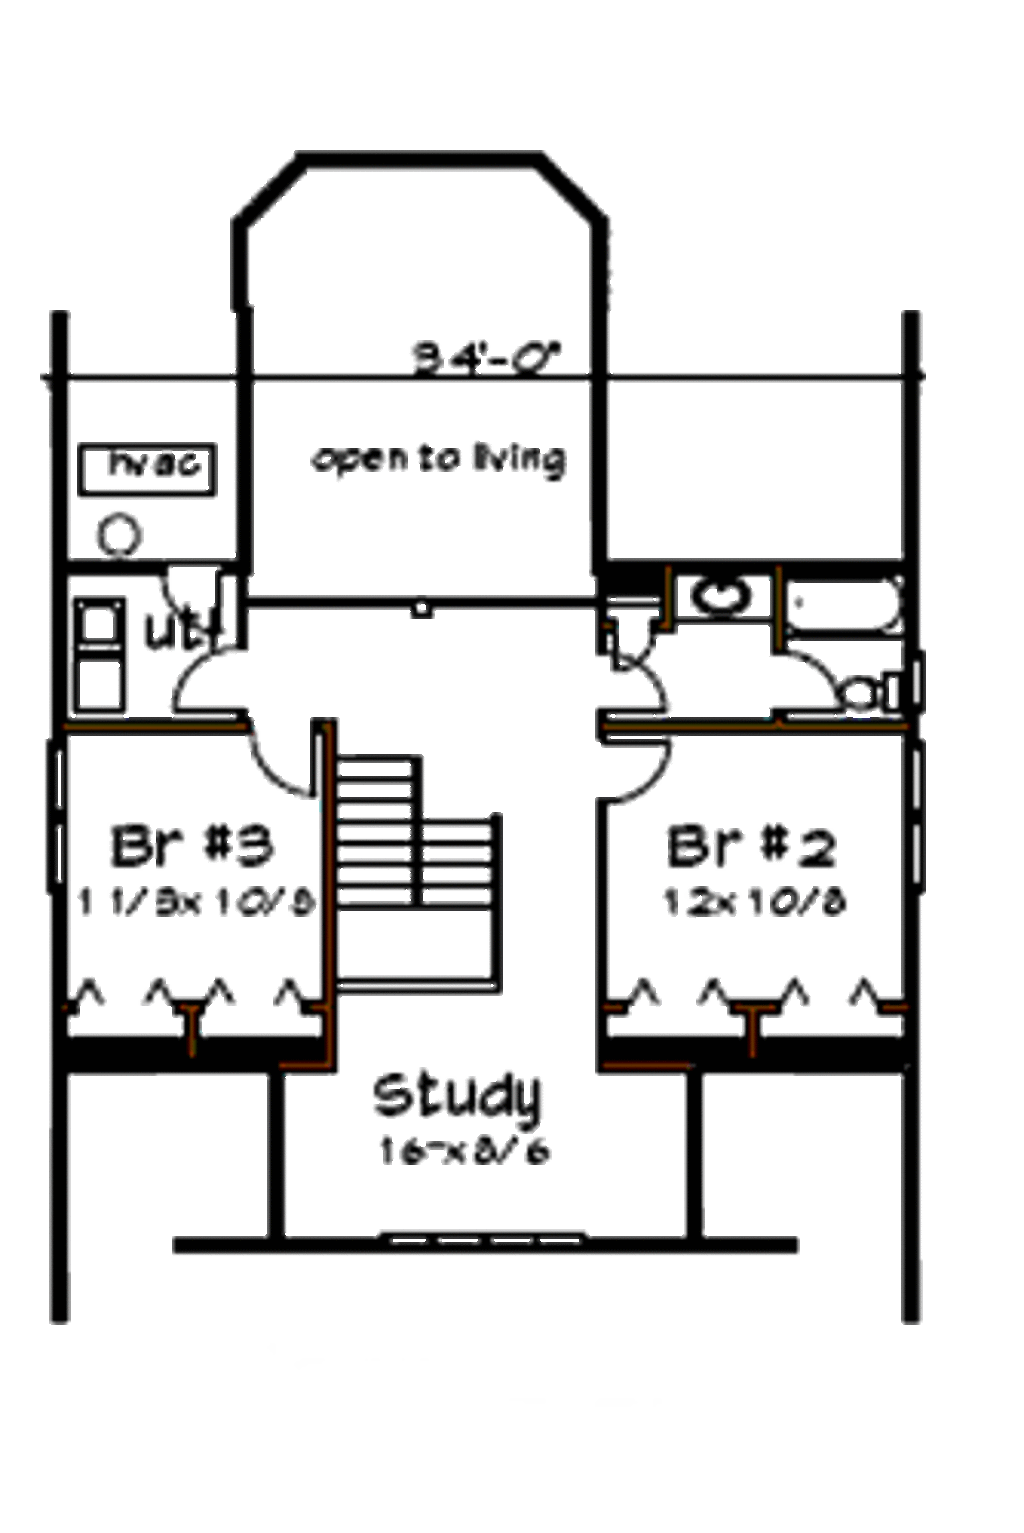door: (590, 724, 681, 812), (246, 719, 325, 798), (153, 556, 235, 633), (592, 645, 677, 715), (167, 649, 250, 719), (762, 647, 841, 717)
large_sink: (843, 673, 904, 715)
small_sink: (669, 570, 771, 626)
stairs: (334, 733, 513, 1001)
tub: (767, 575, 901, 645)
